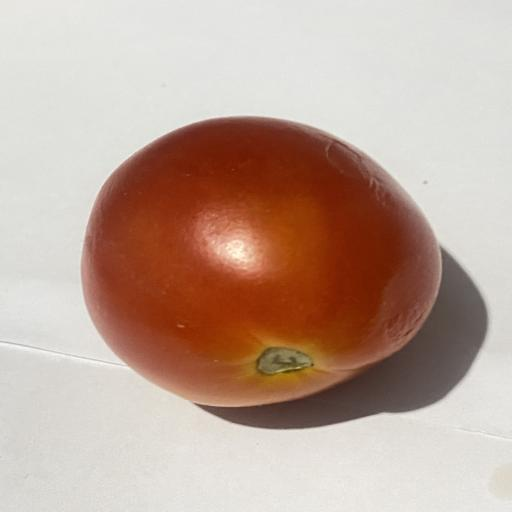ripe: (82, 117, 441, 406)
